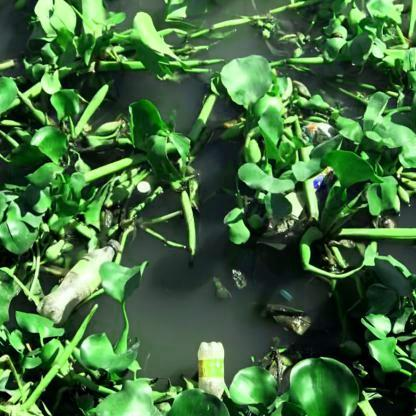Plastic: (36, 239, 128, 328), (197, 339, 228, 406)
Trash: (312, 167, 333, 194)
